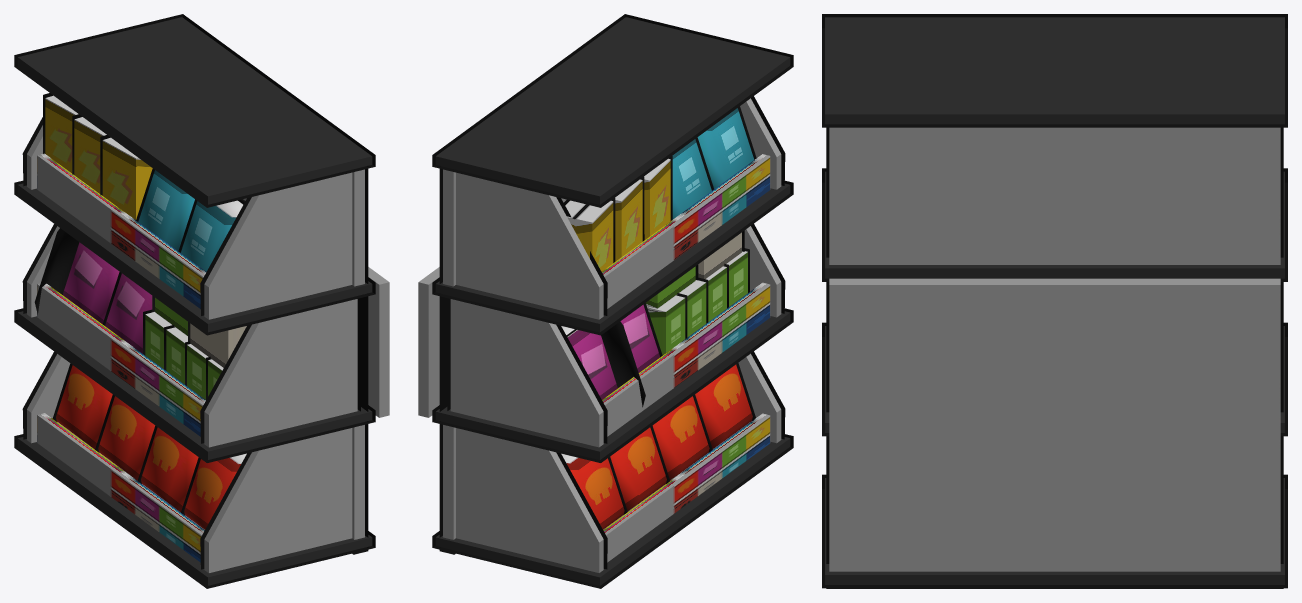
Rendered from shelf1.FBX.
3 views of the same model, side by side, from view 1: azimuth 30°, elevation 25°; view 2: azimuth 150°, elevation 25°; view 3: azimuth 270°, elevation 25° (orthographic). The views are drawn at different scales.
Visible parts, largest first — view 1: Box010, Object010; view 2: Box010, Object010; view 3: Box010.
Boxes of the visible parts, x1,y1,x2,y2 form: Box010: (14, 14, 389, 588); Object010: (37, 153, 206, 562); Box010: (418, 14, 793, 588); Object010: (602, 154, 770, 562); Box010: (822, 14, 1287, 588).
Bounding box in the file's own units: 1.78 × 3.63 × 3.2.
